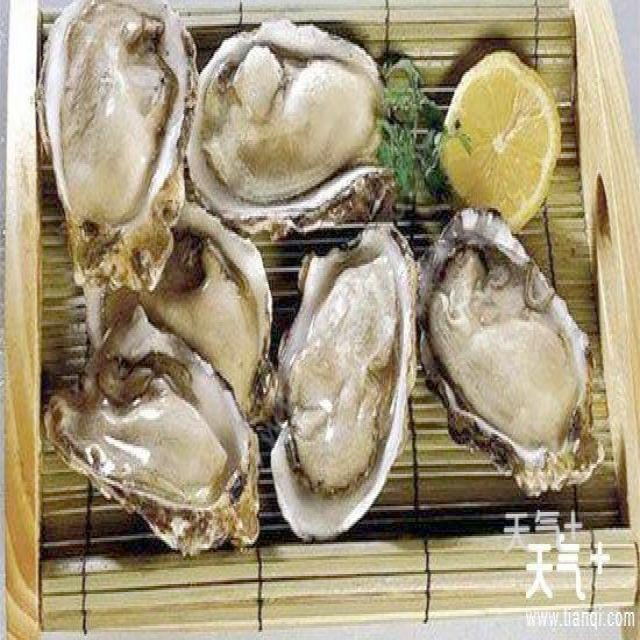Oyster-Open: (32, 290, 286, 577), (407, 199, 622, 509), (171, 8, 434, 250), (245, 212, 425, 557), (23, 0, 213, 320), (69, 184, 290, 445)
